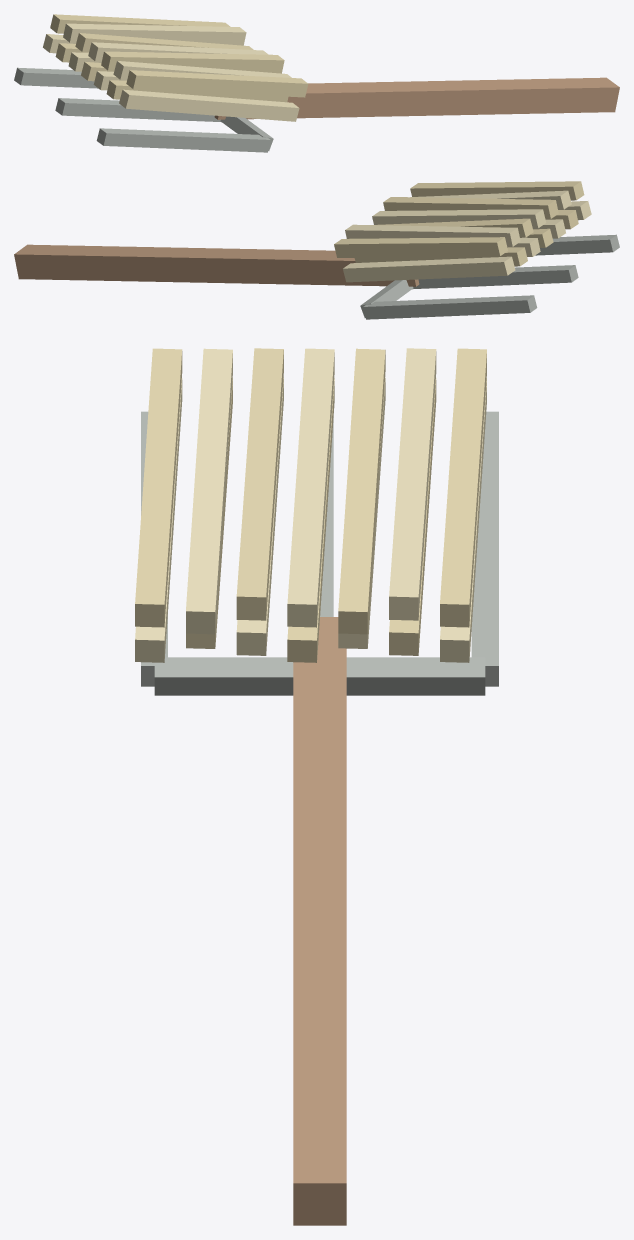
File: crafted-tool-hay-fork-1.glb
3 views of the same model, one above another, from view 1: azimuth 30°, elevation 25°; view 2: azimuth 150°, elevation 25°; view 3: azimuth 270°, elevation 25° (orthographic). The views are drawn at different scales.
Visible parts, largest first — view 1: handle, hay-13, hay-6, tine-2, hay-11, hay-8, tine-1, hay-10, hay-7, hay-9, hay-12, tine (+7 smaller); view 2: handle, hay-7, hay, tine, hay-8, hay-11, hay-10, hay-13, tine-1, tine-2, hay-9, hay-12 (+7 smaller); view 3: handle, fork-shoulder, hay-9, hay-12, hay-10, hay-13, hay-7, hay-11, hay-8, tine, hay-4, hay-1 (+4 smaller).
Part boxes in pixels (x1=…): handle: x1=214, y1=77, x2=619, y2=119; hay-13: x1=126, y1=70, x2=308, y2=97; hay-6: x1=119, y1=89, x2=299, y2=121; tine-2: x1=96, y1=128, x2=270, y2=152; hay-11: x1=101, y1=51, x2=284, y2=73; hay-8: x1=63, y1=23, x2=246, y2=45; tine-1: x1=55, y1=98, x2=221, y2=122; hay-10: x1=88, y1=42, x2=268, y2=61; hay-7: x1=50, y1=14, x2=230, y2=33; hay-9: x1=75, y1=33, x2=253, y2=52; hay-12: x1=113, y1=61, x2=291, y2=80; tine: x1=14, y1=67, x2=97, y2=88; handle: x1=14, y1=244, x2=419, y2=286; hay-7: x1=334, y1=237, x2=507, y2=257; hay: x1=343, y1=256, x2=515, y2=282; tine: x1=363, y1=295, x2=537, y2=319; hay-8: x1=345, y1=224, x2=520, y2=246; hay-11: x1=383, y1=197, x2=558, y2=218; hay-10: x1=372, y1=209, x2=546, y2=228; hay-13: x1=410, y1=181, x2=584, y2=200; tine-1: x1=412, y1=265, x2=578, y2=289; tine-2: x1=535, y1=234, x2=619, y2=255; hay-9: x1=375, y1=218, x2=533, y2=237; hay-12: x1=410, y1=190, x2=571, y2=209; handle: x1=293, y1=617, x2=346, y2=1225; fork-shoulder: x1=154, y1=657, x2=485, y2=695; hay-9: x1=338, y1=348, x2=385, y2=634; hay-12: x1=186, y1=348, x2=232, y2=634; hay-10: x1=287, y1=348, x2=334, y2=627; hay-13: x1=135, y1=348, x2=182, y2=627; hay-7: x1=440, y1=348, x2=486, y2=627; hay-11: x1=236, y1=348, x2=283, y2=620; hay-8: x1=389, y1=348, x2=436, y2=620; tine: x1=471, y1=411, x2=498, y2=686; hay-4: x1=236, y1=378, x2=283, y2=655; hay-1: x1=389, y1=378, x2=436, y2=655.
Size of the model in its own units: 1.08 by 0.3508 by 0.308.
